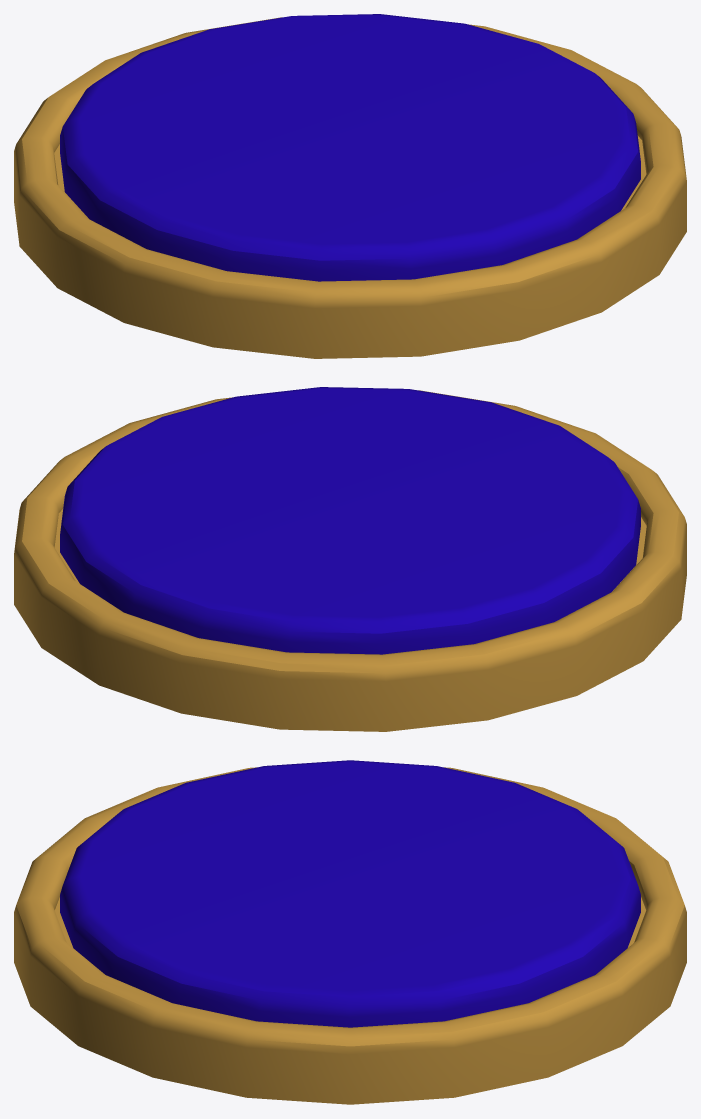
File: a5_blue.fbx
3 renders of one model, top to bottom at view 1: azimuth 30°, elevation 25°; view 2: azimuth 150°, elevation 25°; view 3: azimuth 270°, elevation 25°, orthographic.
Visible parts, largest first — view 1: polySurface4; view 2: polySurface4; view 3: polySurface4.
Boxes of the visible parts, box(x1,y1,x2,y2) form: polySurface4: box(14, 14, 686, 358); polySurface4: box(14, 387, 686, 731); polySurface4: box(14, 760, 686, 1104).
Bounding box in the file's own units: 200 × 28.3 × 200.
